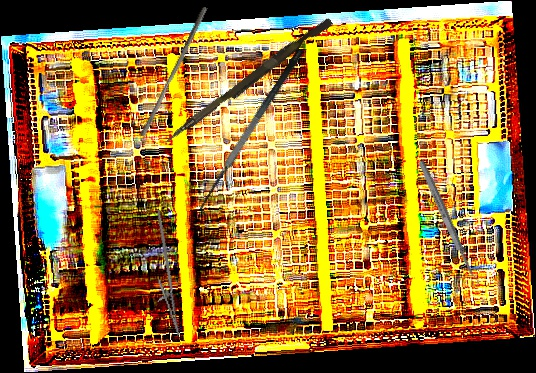Needle Holder: (133, 209, 195, 339)
Pusher: (162, 13, 334, 151), (139, 3, 208, 140)
Spatula Surgical: (190, 47, 319, 220)
Surgical Spoon: (416, 159, 481, 288)
